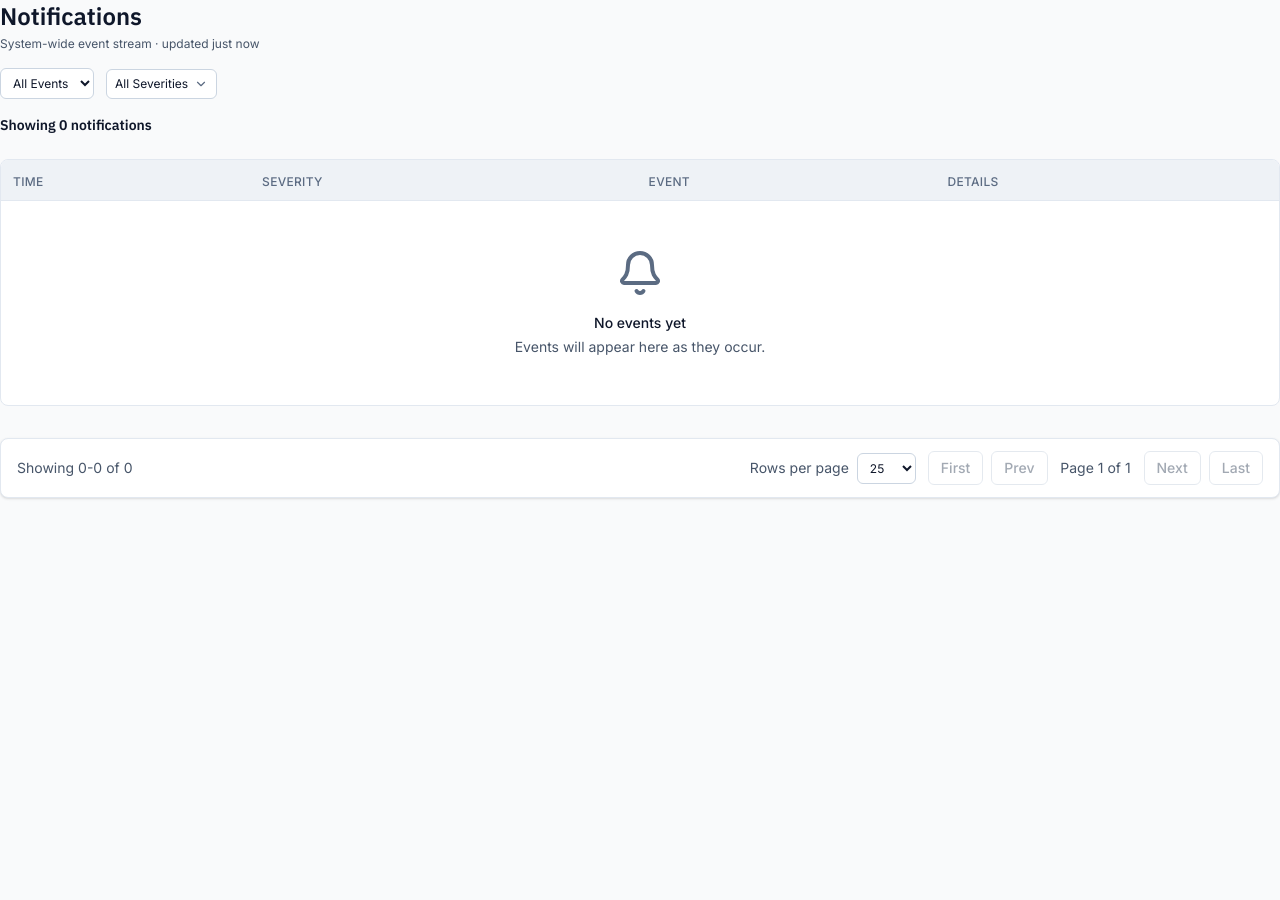
Test case: Notifications severity filter › renders severity filter popover with five checkboxes
Click the button with aria-label "Severity filter" at (162, 84), box [106,68,217,98]
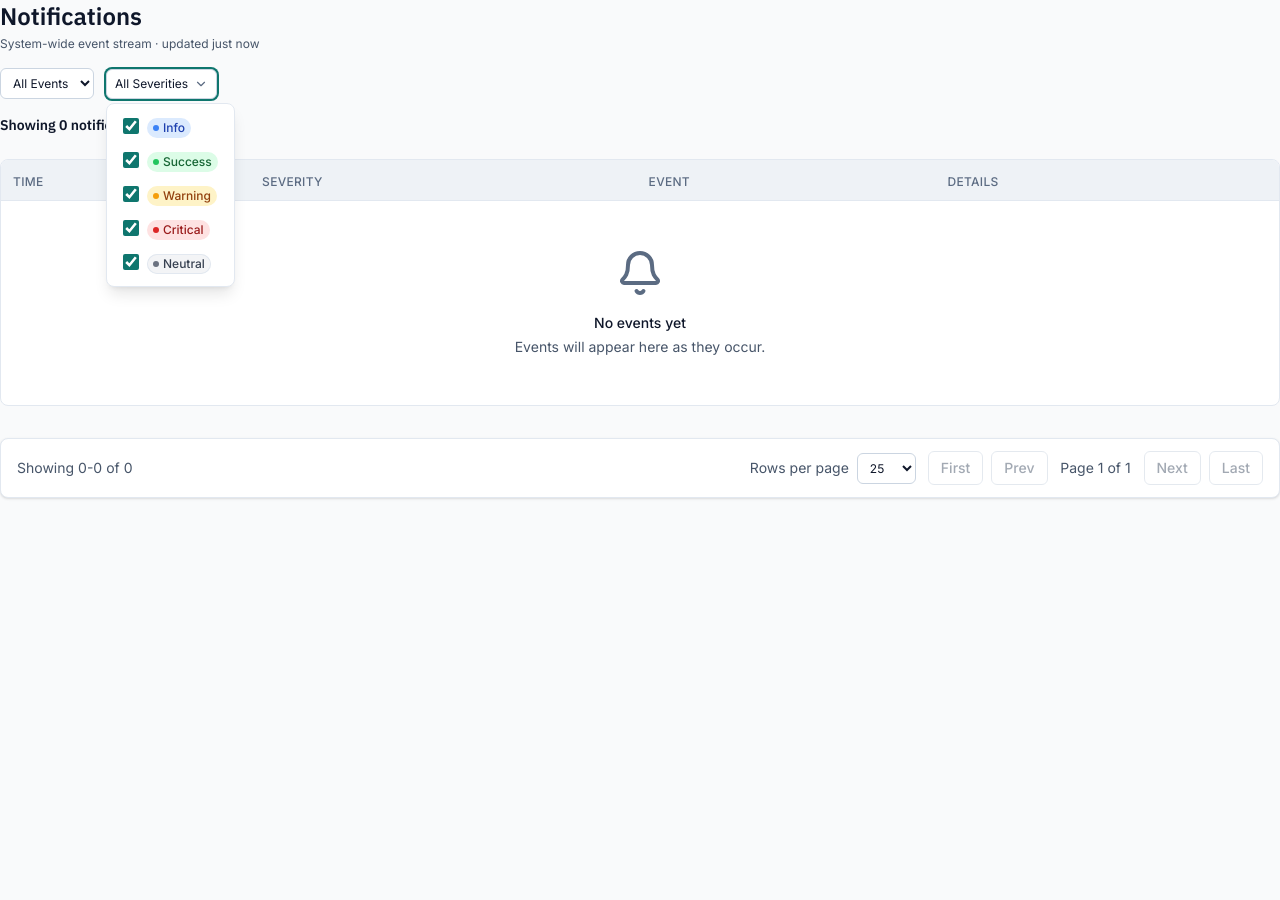
Expected: the checkbox labelled "Info" is shown, [123,118,139,134]
Expected: the checkbox labelled "Success" is shown, [123,152,139,168]
Expected: the checkbox labelled "Warning" is shown, [123,186,139,202]
